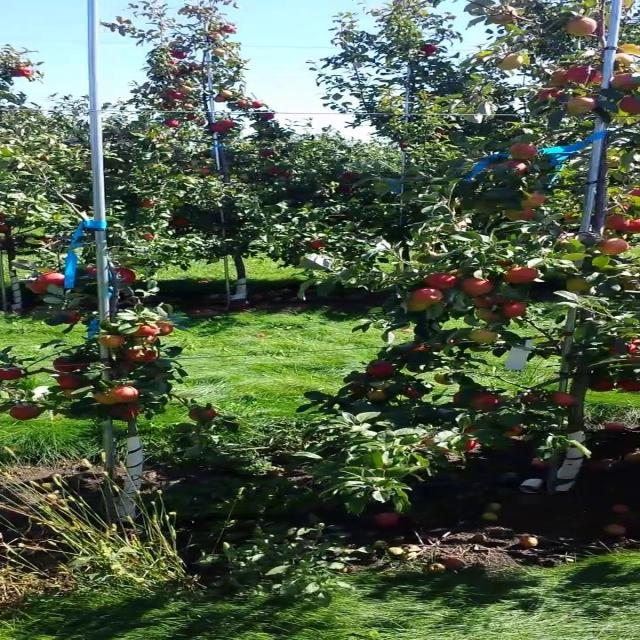apple: (611, 340, 639, 364), (568, 96, 597, 116), (504, 268, 540, 284), (461, 280, 496, 296), (412, 288, 443, 304), (127, 348, 158, 364), (511, 144, 540, 160), (568, 20, 597, 36), (113, 388, 142, 404), (604, 240, 633, 256), (113, 404, 142, 420), (426, 276, 459, 290), (611, 76, 639, 92), (568, 68, 596, 84), (191, 408, 220, 423), (618, 96, 639, 116), (497, 56, 523, 72), (42, 272, 66, 288), (504, 208, 533, 221), (525, 192, 548, 208), (568, 280, 594, 294), (13, 408, 43, 420), (468, 332, 498, 344), (28, 280, 50, 296), (604, 216, 626, 232), (92, 392, 119, 405), (99, 336, 128, 348), (56, 376, 82, 389), (404, 300, 432, 312), (589, 380, 617, 392), (554, 392, 576, 407), (369, 364, 396, 376), (476, 296, 503, 308), (504, 304, 526, 318), (476, 312, 503, 323), (504, 164, 528, 176), (134, 324, 156, 337), (1, 368, 23, 380), (476, 396, 500, 407), (554, 72, 571, 87), (120, 268, 135, 284), (618, 380, 638, 392), (56, 360, 76, 372), (156, 324, 176, 336), (497, 12, 517, 24), (611, 56, 635, 66), (618, 44, 638, 55), (540, 92, 564, 101), (13, 68, 36, 77), (404, 388, 421, 400), (461, 440, 478, 452), (504, 428, 526, 437), (625, 220, 639, 234), (433, 376, 452, 385), (369, 392, 388, 401), (70, 312, 84, 324), (497, 260, 514, 268), (84, 268, 100, 276), (525, 396, 540, 404), (120, 364, 135, 371), (63, 392, 78, 399), (433, 344, 446, 352), (568, 216, 578, 223), (412, 348, 428, 352), (77, 364, 87, 370), (454, 396, 462, 403), (632, 188, 639, 196), (625, 204, 633, 210), (468, 428, 476, 432), (456, 340, 460, 343)
